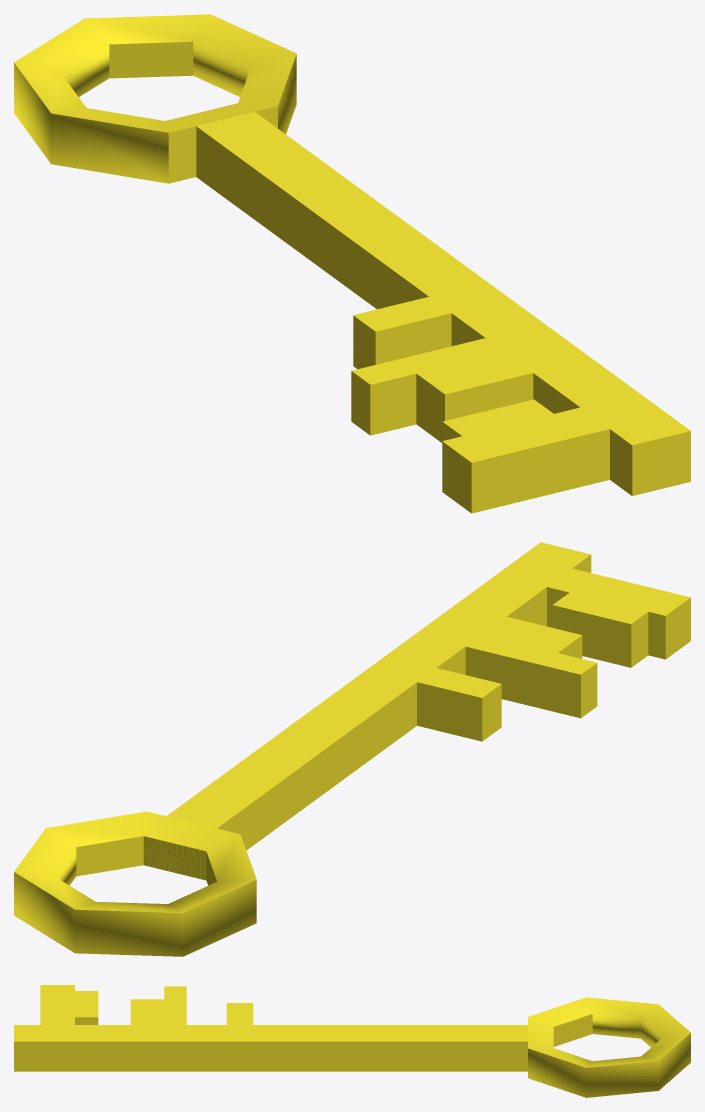
Rendered from key1.glb.
3 views of the same model, one above another, from view 1: azimuth 30°, elevation 25°; view 2: azimuth 150°, elevation 25°; view 3: azimuth 270°, elevation 25° (orthographic). The views are drawn at different scales.
Visible parts, largest first — view 1: key1; view 2: key1; view 3: key1.
Part boxes in pixels (left/top/right/bottom): key1: left=14, top=14, right=690, bottom=513; key1: left=14, top=542, right=690, bottom=956; key1: left=14, top=985, right=690, bottom=1097.
Bounding box in the file's own units: 2.29 × 0.3857 × 7.9.
